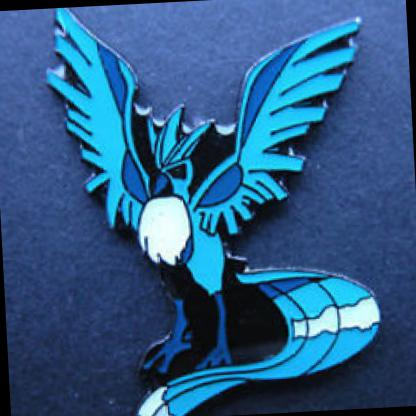Articuno: (31, 7, 416, 416)
